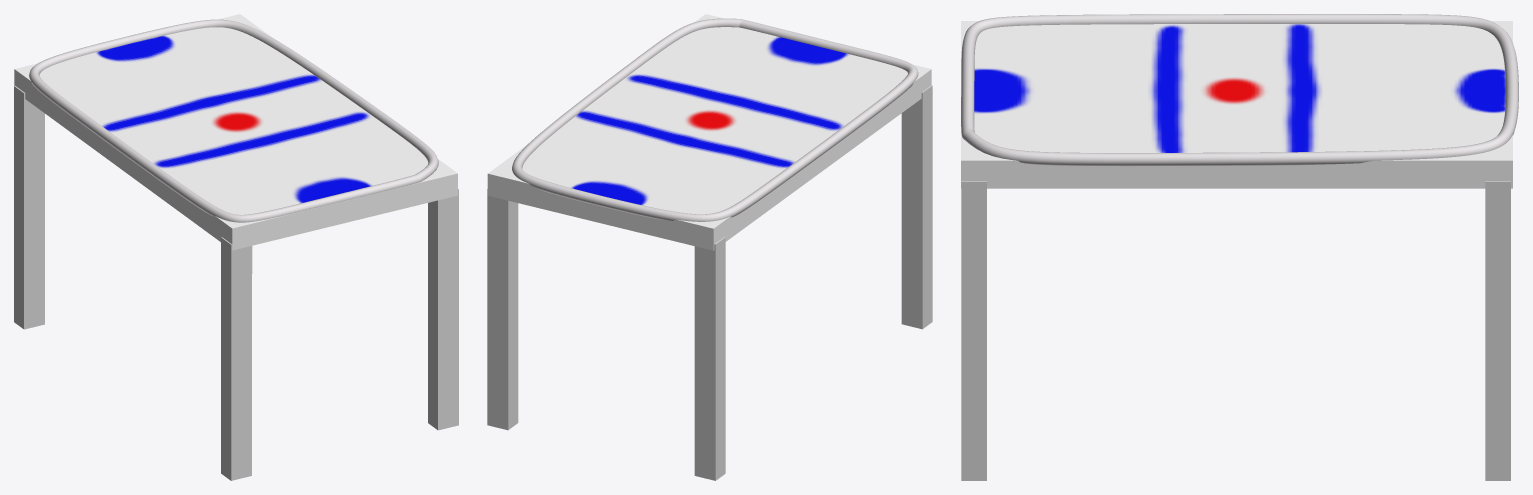
The model's file is Pöytä.fbx.
3 views of the same model, side by side, from view 1: azimuth 30°, elevation 25°; view 2: azimuth 150°, elevation 25°; view 3: azimuth 270°, elevation 25° (orthographic). The views are drawn at different scales.
Visible parts, largest first — view 1: Cube.004, NurbsPath; view 2: Cube.004, NurbsPath; view 3: Cube.004, NurbsPath.
Boxes of the visible parts, x1=… form: Cube.004: x1=14, y1=14, x2=458, y2=480; NurbsPath: x1=29, y1=19, x2=438, y2=222; Cube.004: x1=487, y1=14, x2=932, y2=480; NurbsPath: x1=512, y1=18, x2=918, y2=221; Cube.004: x1=961, y1=21, x2=1512, y2=480; NurbsPath: x1=961, y1=14, x2=1518, y2=166.
Bounding box in the file's own units: 208 × 219 × 338.
4 materials, 1 textured.
